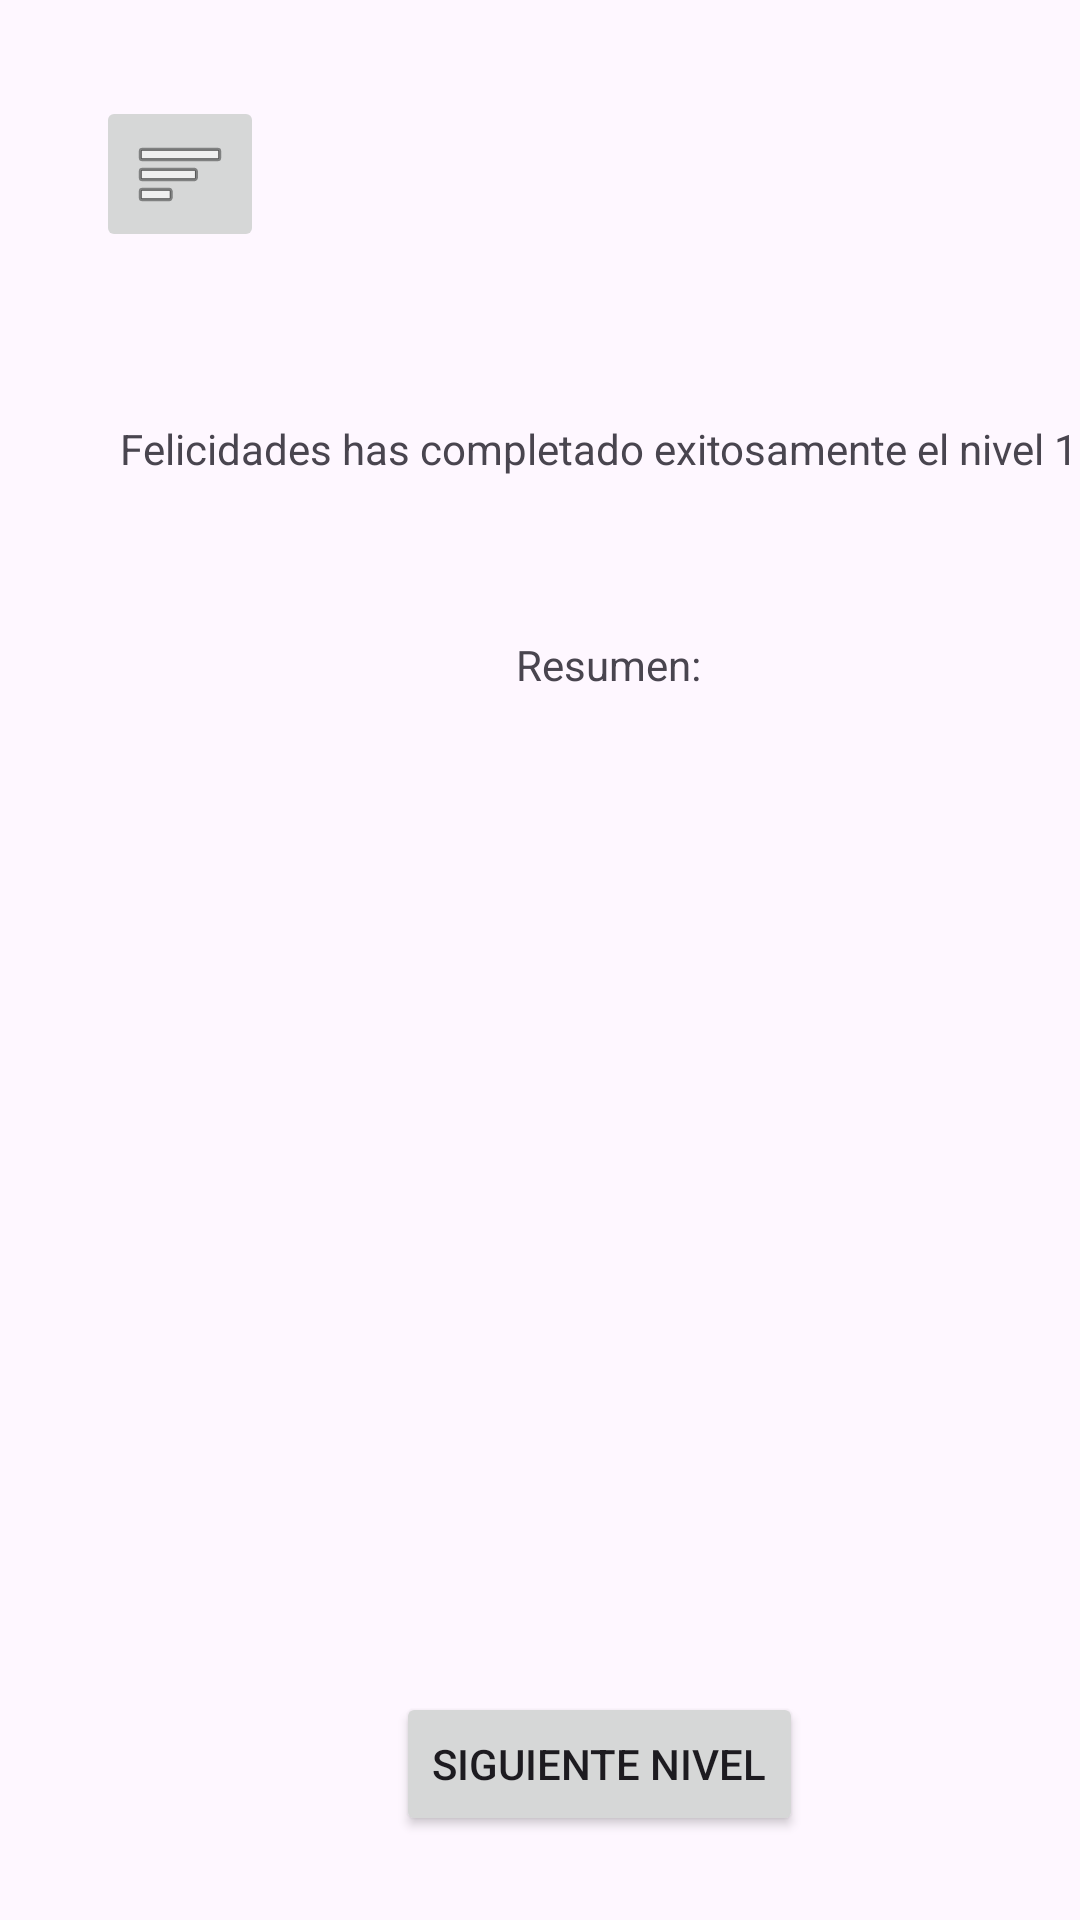

Icon bounding boxes for this 1080x1920 phone screenshot, format (x1, y1, x2, y2):
sort by size: (108, 114, 252, 234)
